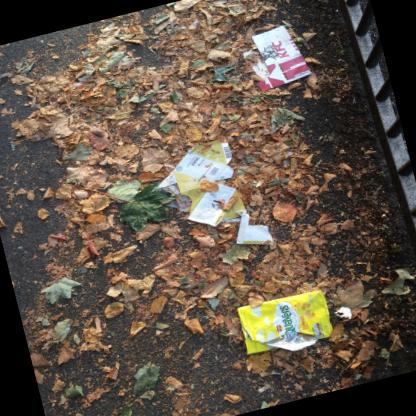Paper: (157, 140, 274, 245), (243, 25, 312, 91), (259, 384, 271, 393), (176, 81, 186, 89)
Plastic: (238, 290, 333, 354), (155, 183, 192, 212)
Waste: (334, 306, 352, 319)
